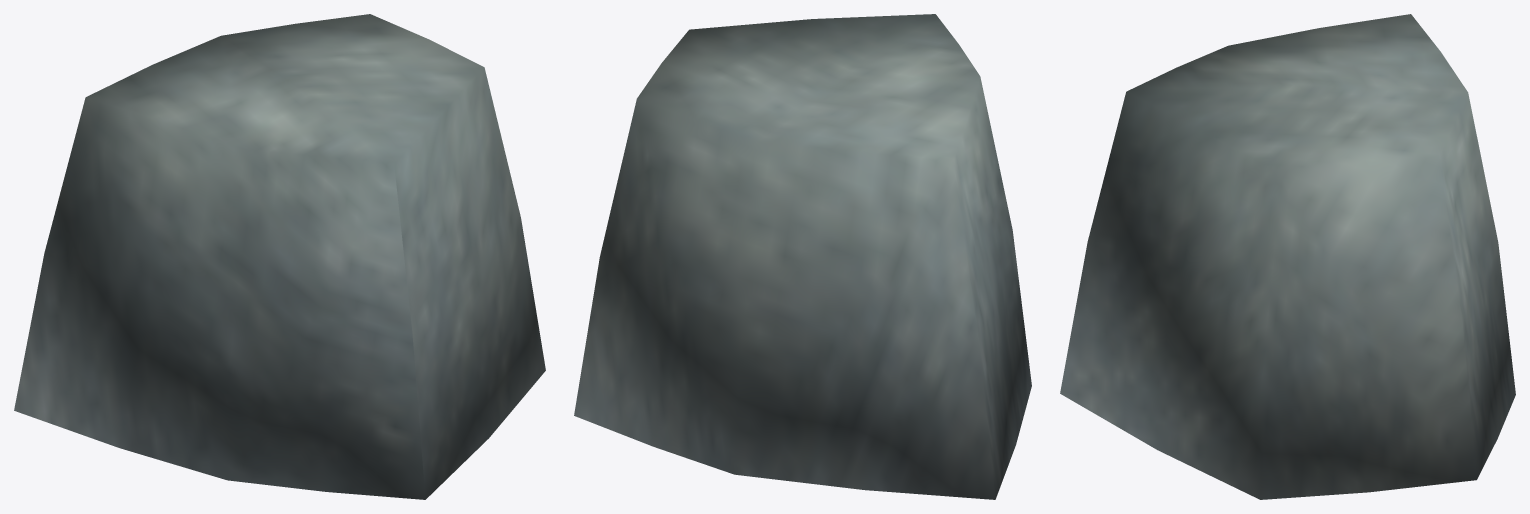
Rendered from rocks_007.fbx.
3 views of the same model, side by side, from view 1: azimuth 30°, elevation 25°; view 2: azimuth 150°, elevation 25°; view 3: azimuth 270°, elevation 25° (orthographic). The views are drawn at different scales.
Visible parts, largest first — view 1: rocks.007; view 2: rocks.007; view 3: rocks.007.
Part boxes in pixels (left/top/right/bottom): rocks.007: left=14, top=14, right=545, bottom=499; rocks.007: left=574, top=14, right=1031, bottom=499; rocks.007: left=1060, top=14, right=1515, bottom=499.
Size of the model in its own units: 45.96 by 32.77 by 42.2.
